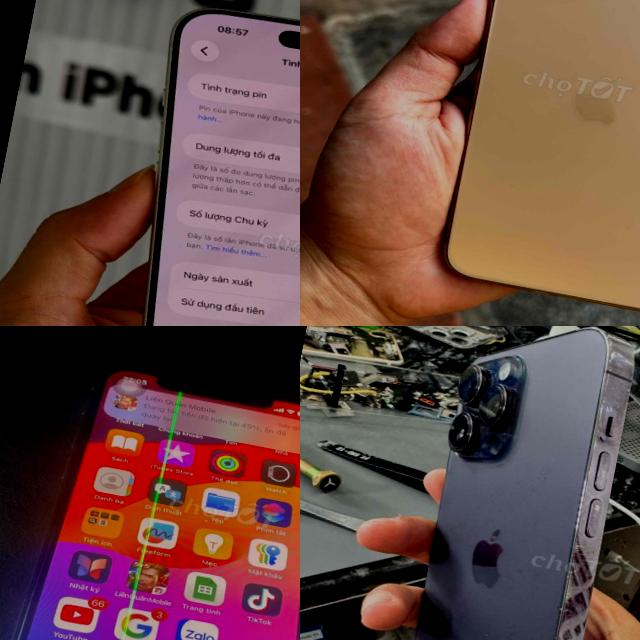scratch: (552, 398, 627, 622), (605, 340, 640, 385), (474, 418, 500, 446), (465, 396, 483, 409)
screen_defect: (119, 391, 182, 640)
